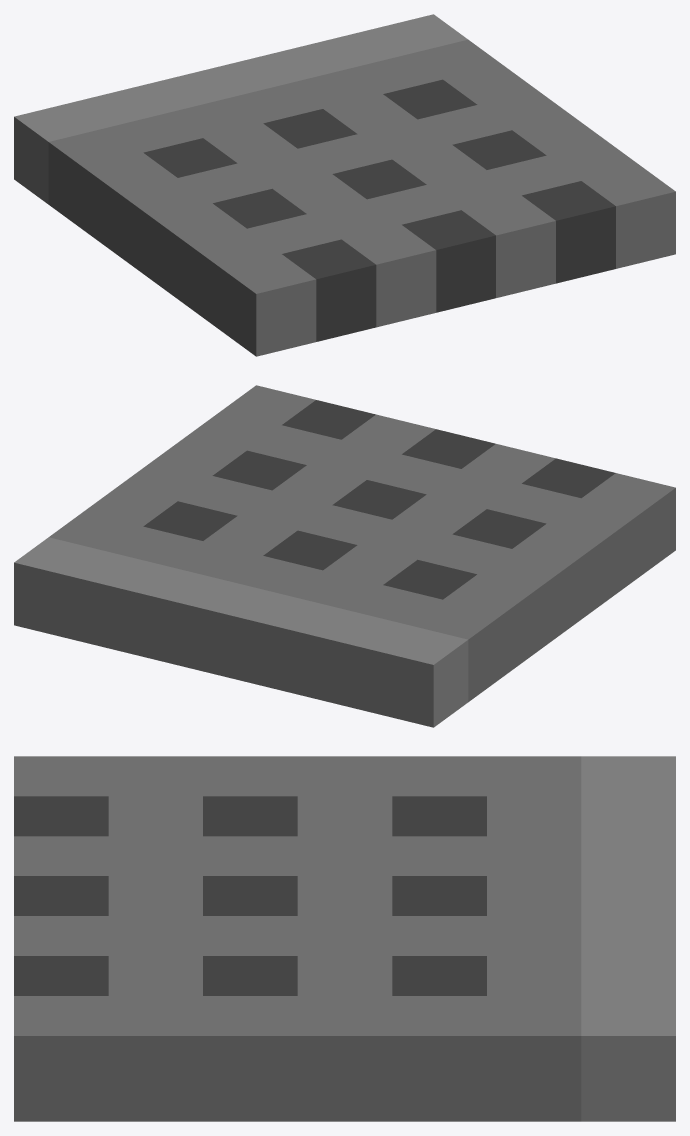
File: environ-27-grate1.obj
3 renders of one model, top to bottom at view 1: azimuth 30°, elevation 25°; view 2: azimuth 150°, elevation 25°; view 3: azimuth 270°, elevation 25°, orthographic. The views are drawn at different scales.
Visible parts, largest first — view 1: grate1; view 2: grate1; view 3: grate1.
Part boxes in pixels (x1=…): grate1: x1=14, y1=14, x2=675, y2=356; grate1: x1=14, y1=385, x2=675, y2=727; grate1: x1=14, y1=756, x2=675, y2=1121.
Bounding box in the file's own units: 0.7 × 0.1 × 0.7.
Materials: 1 (1 with a texture image).
